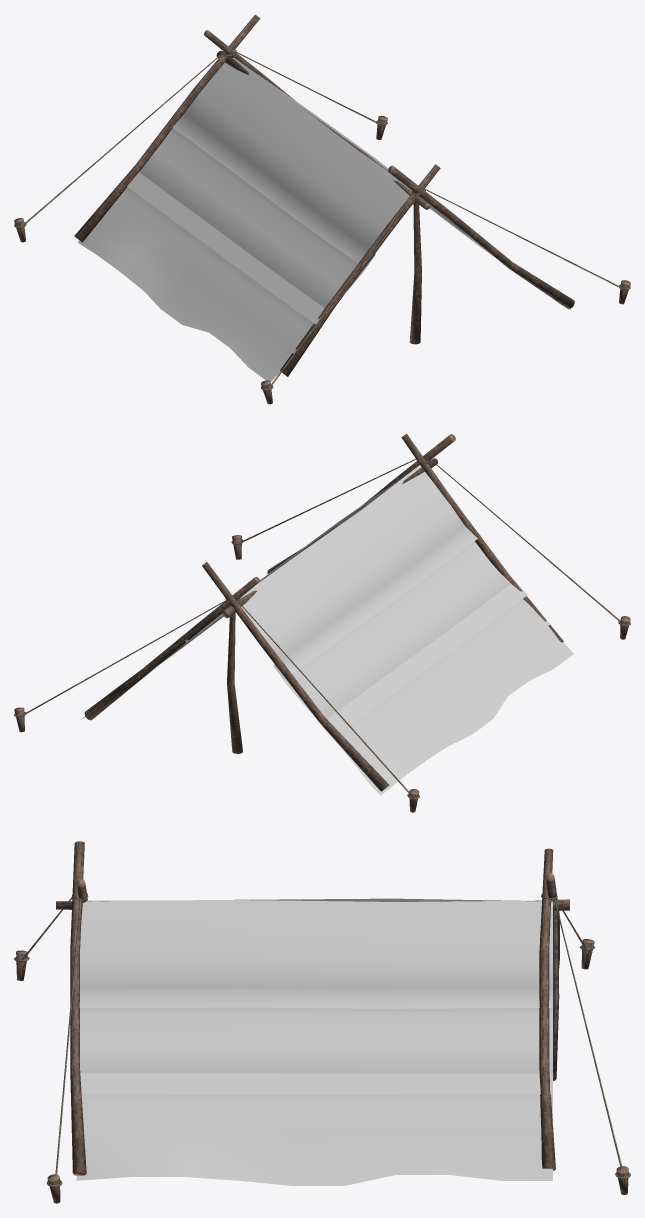
The model's file is hut1.fbx.
3 views of the same model, one above another, from view 1: azimuth 30°, elevation 25°; view 2: azimuth 150°, elevation 25°; view 3: azimuth 270°, elevation 25° (orthographic). The views are drawn at different scales.
Visible parts, largest first — view 1: Cube_000, Cube_001, wood1; view 2: Cube_000, Cube_001, wood1; view 3: Cube_000, Cube_001, wood1.
Part boxes in pixels (x1,y1,x2,y2): Cube_000: (78, 57, 571, 381); Cube_001: (80, 59, 569, 380); wood1: (14, 14, 630, 404); Cube_000: (81, 465, 573, 795); Cube_001: (83, 468, 573, 794); wood1: (14, 433, 630, 812); Cube_000: (76, 898, 552, 1185); Cube_001: (76, 899, 552, 1185); wood1: (14, 841, 630, 1203).
Size of the model in its own units: 4.14 by 1.88 by 4.45.
